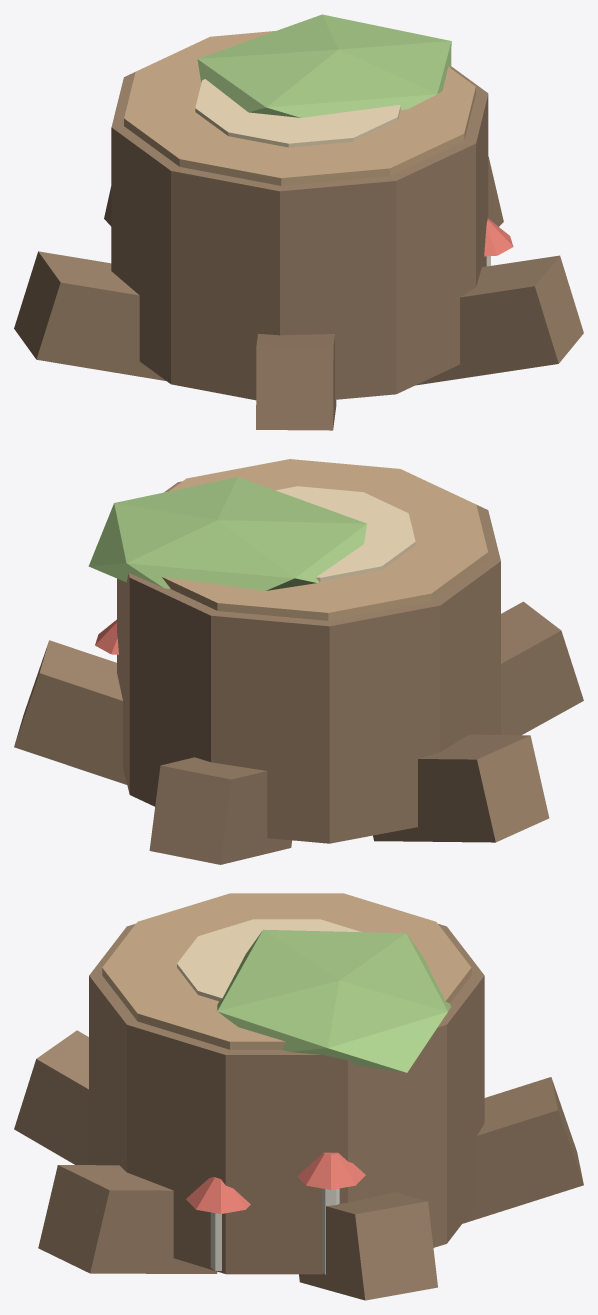
File: Stump_Old.fbx
3 renders of one model, top to bottom at view 1: azimuth 30°, elevation 25°; view 2: azimuth 150°, elevation 25°; view 3: azimuth 270°, elevation 25°, orthographic. The views are drawn at different scales.
Visible parts, largest first — view 1: Stump_Old_Mesh; view 2: Stump_Old_Mesh; view 3: Stump_Old_Mesh.
Boxes of the visible parts, x1,y1,x2,y2 form: Stump_Old_Mesh: (14, 14, 583, 430); Stump_Old_Mesh: (14, 459, 583, 864); Stump_Old_Mesh: (14, 893, 583, 1300).
Bounding box in the file's own units: 1.33 × 0.6976 × 1.3.
